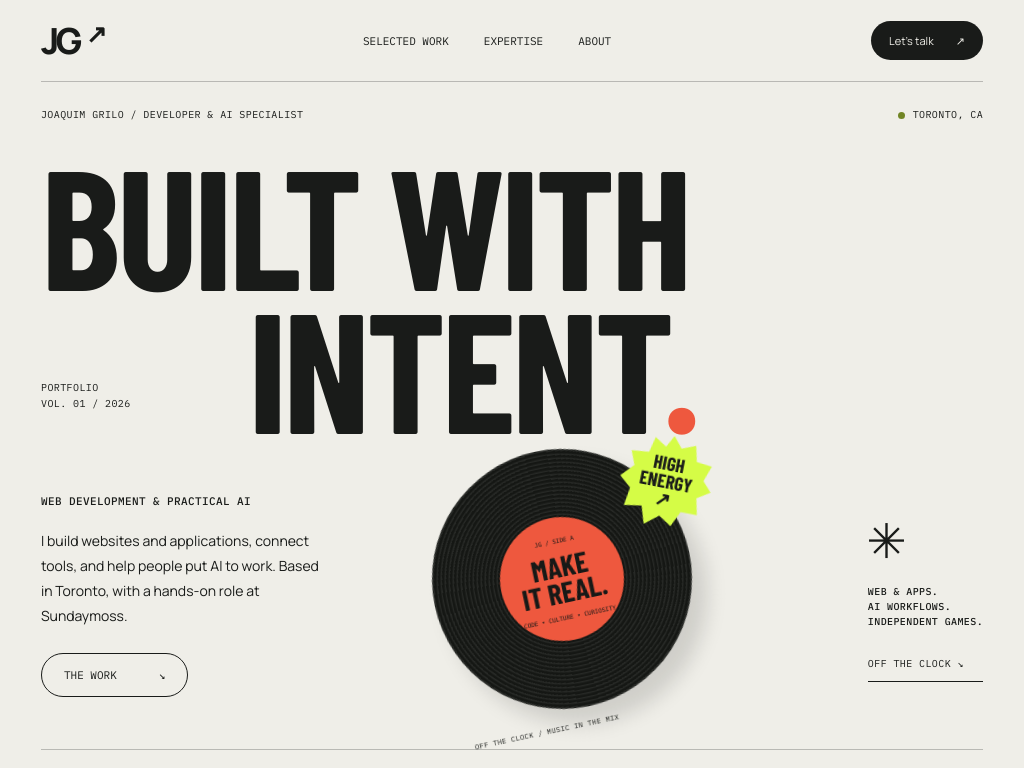
opens and closes the contact form without navigating away
Click the button "Let’s talk ↗": [927, 40] box [871,21,983,60]
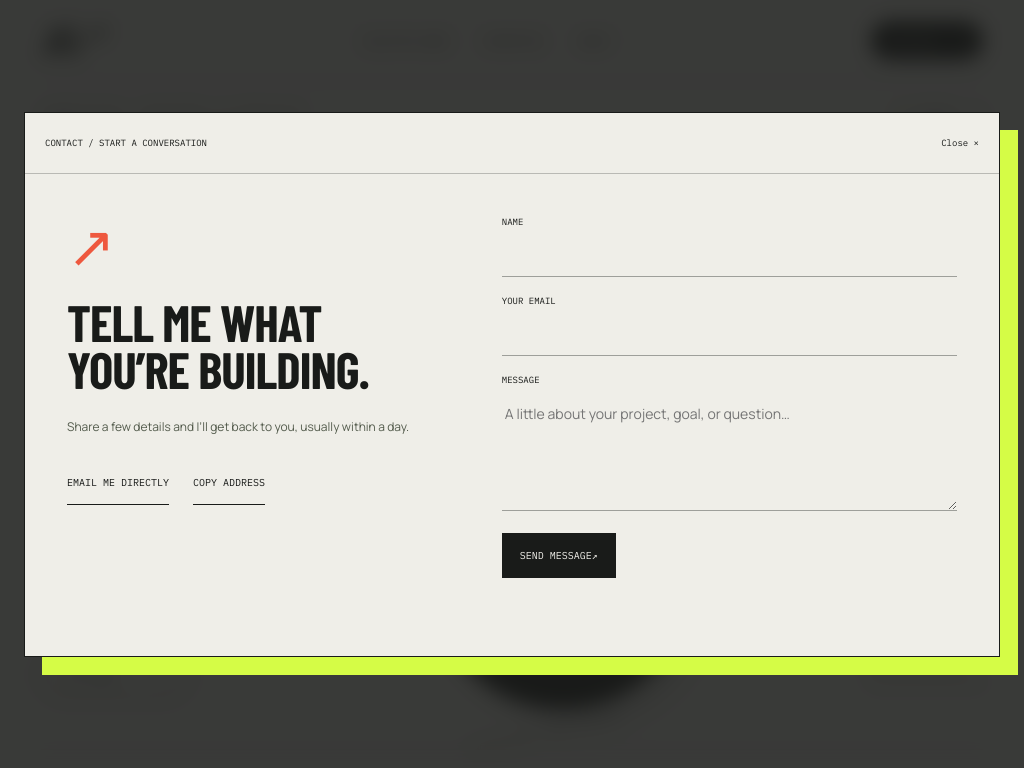
Check: the dialog named "tell me what you’re building" is shown
Click the button with aria-label "Close contact form": [960, 142] box [929,120,991,164]
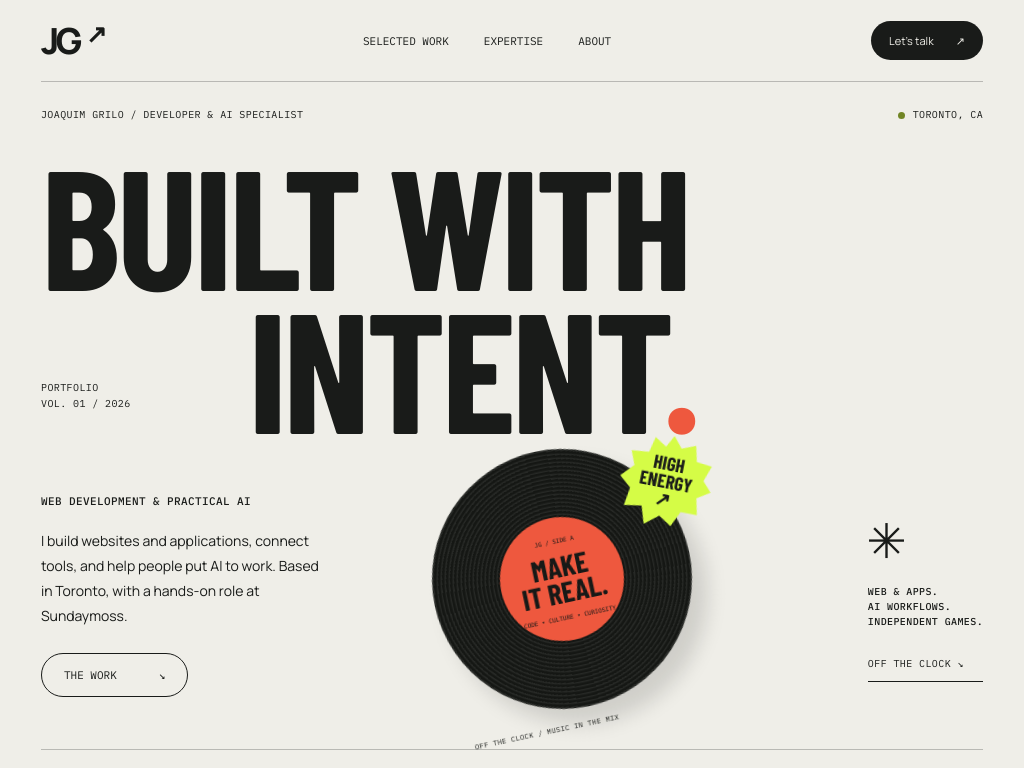
Check: the dialog with class "contact-dialog" is gone
